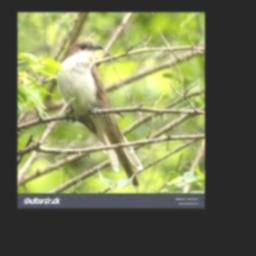Cuckoo: (59, 38, 143, 186)
